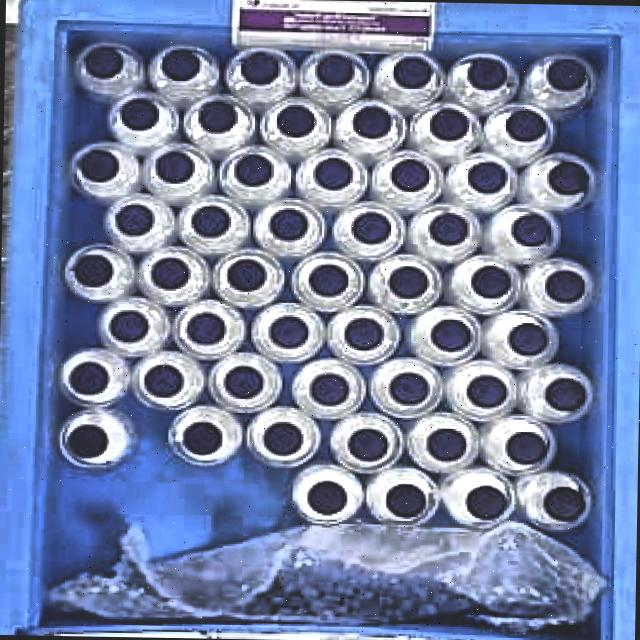vial: (464, 480, 510, 520), (542, 376, 591, 411), (465, 370, 510, 408), (259, 420, 302, 459), (181, 419, 224, 458), (382, 481, 426, 519), (424, 210, 470, 246), (273, 103, 319, 139), (501, 429, 548, 464), (266, 313, 310, 350), (65, 422, 110, 458), (429, 317, 474, 353), (545, 160, 590, 196), (238, 50, 284, 85), (349, 209, 392, 246), (267, 205, 310, 242), (153, 149, 196, 186), (341, 316, 385, 352), (77, 148, 121, 184), (469, 265, 514, 300), (111, 202, 156, 237), (187, 203, 232, 238), (72, 252, 114, 289), (118, 96, 160, 133), (505, 320, 548, 356), (350, 104, 393, 140), (314, 53, 357, 89), (384, 265, 429, 299), (543, 486, 584, 523), (69, 360, 111, 396), (141, 363, 184, 398), (466, 57, 509, 92), (428, 105, 469, 141), (347, 428, 389, 463), (223, 364, 265, 399), (308, 371, 350, 406), (184, 311, 226, 346), (545, 268, 587, 303), (196, 99, 238, 134), (83, 45, 125, 80), (107, 308, 150, 342), (309, 263, 352, 297), (233, 152, 276, 186), (388, 158, 431, 192), (507, 213, 550, 247), (158, 48, 201, 82), (386, 371, 430, 404), (306, 480, 347, 515), (428, 426, 470, 460), (225, 257, 267, 291), (392, 56, 434, 90), (149, 256, 192, 289), (545, 58, 589, 90), (311, 157, 352, 191), (466, 161, 507, 195), (505, 108, 546, 142)
